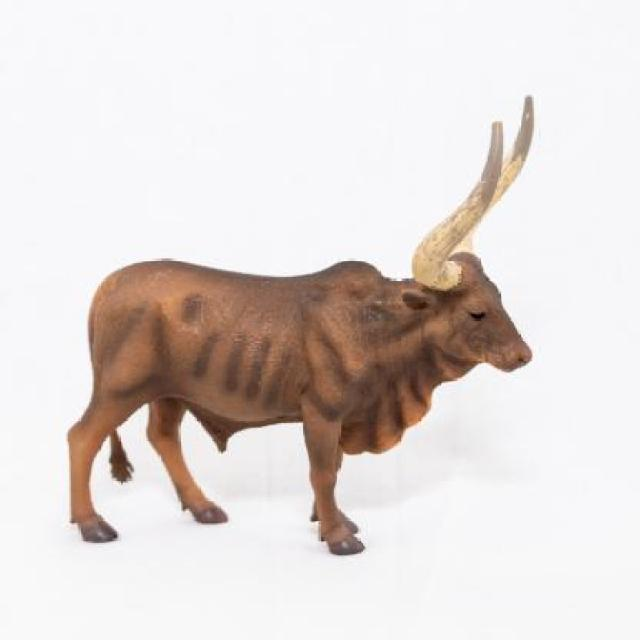Cow: (51, 88, 543, 564)
